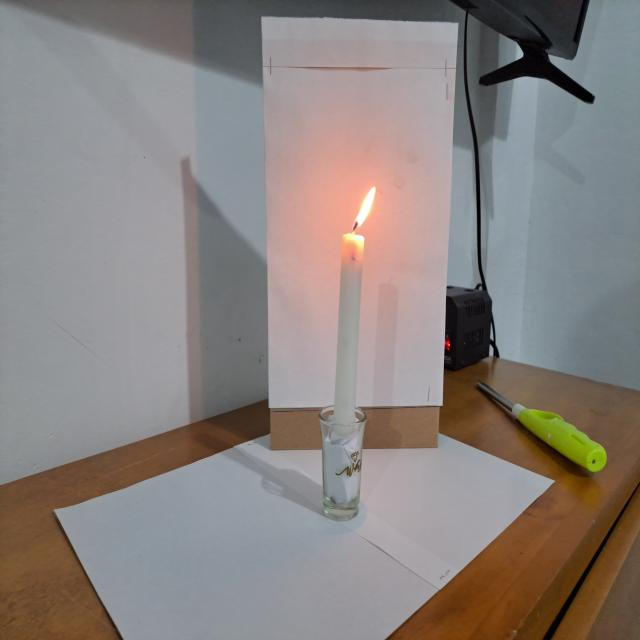candle: (314, 167, 377, 525)
wall: (259, 11, 460, 450)
